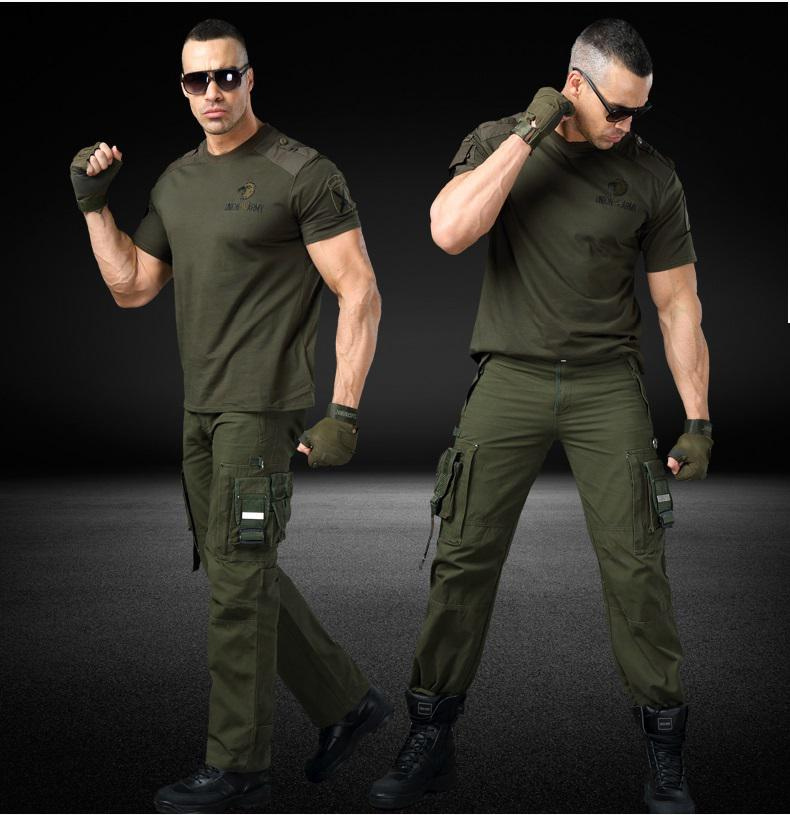pants: (404, 349, 682, 726), (156, 363, 374, 784)
